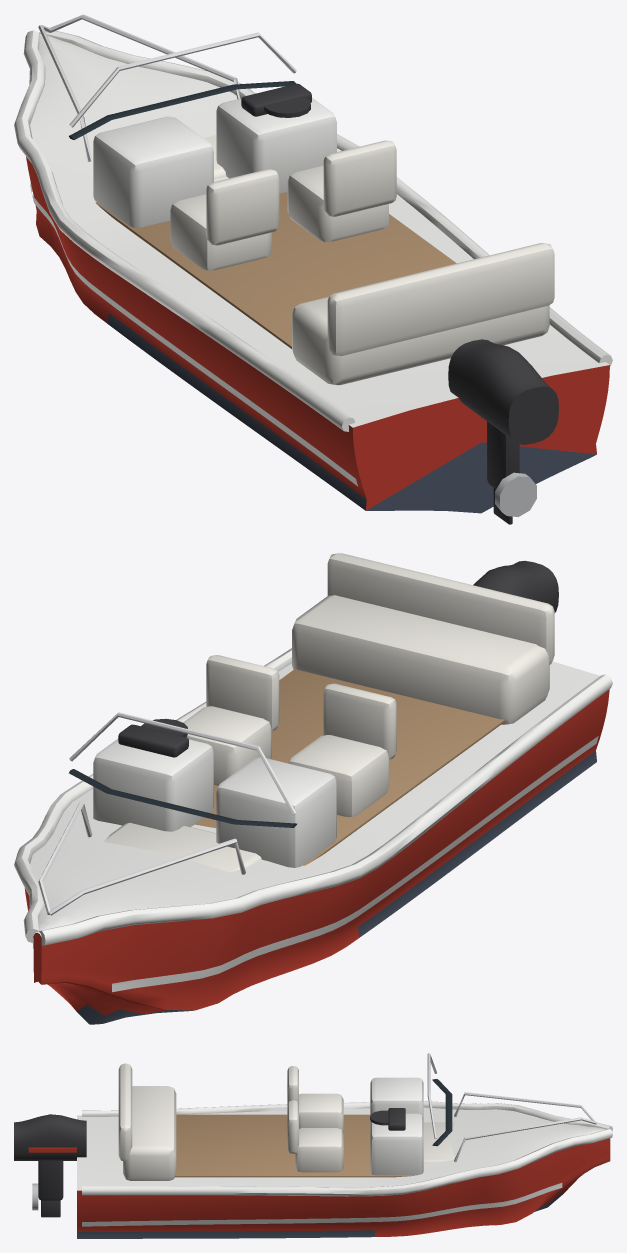
File: dart.glb
3 renders of one model, top to bottom at view 1: azimuth 30°, elevation 25°; view 2: azimuth 150°, elevation 25°; view 3: azimuth 270°, elevation 25°, orthographic. The views are drawn at different scales.
Visible parts, largest first — view 1: Body, Outboard; view 2: Body, Outboard; view 3: Body, Outboard.
Part boxes in pixels (x1,y1,x2,y2): Body: (14,14,612,513); Outboard: (448,339,558,524); Body: (14,553,612,1024); Outboard: (473,560,558,612); Body: (77,1053,612,1238); Outboard: (14,1114,86,1217).
Size of the model in its own units: 2.19 by 1.8 by 6.18.
